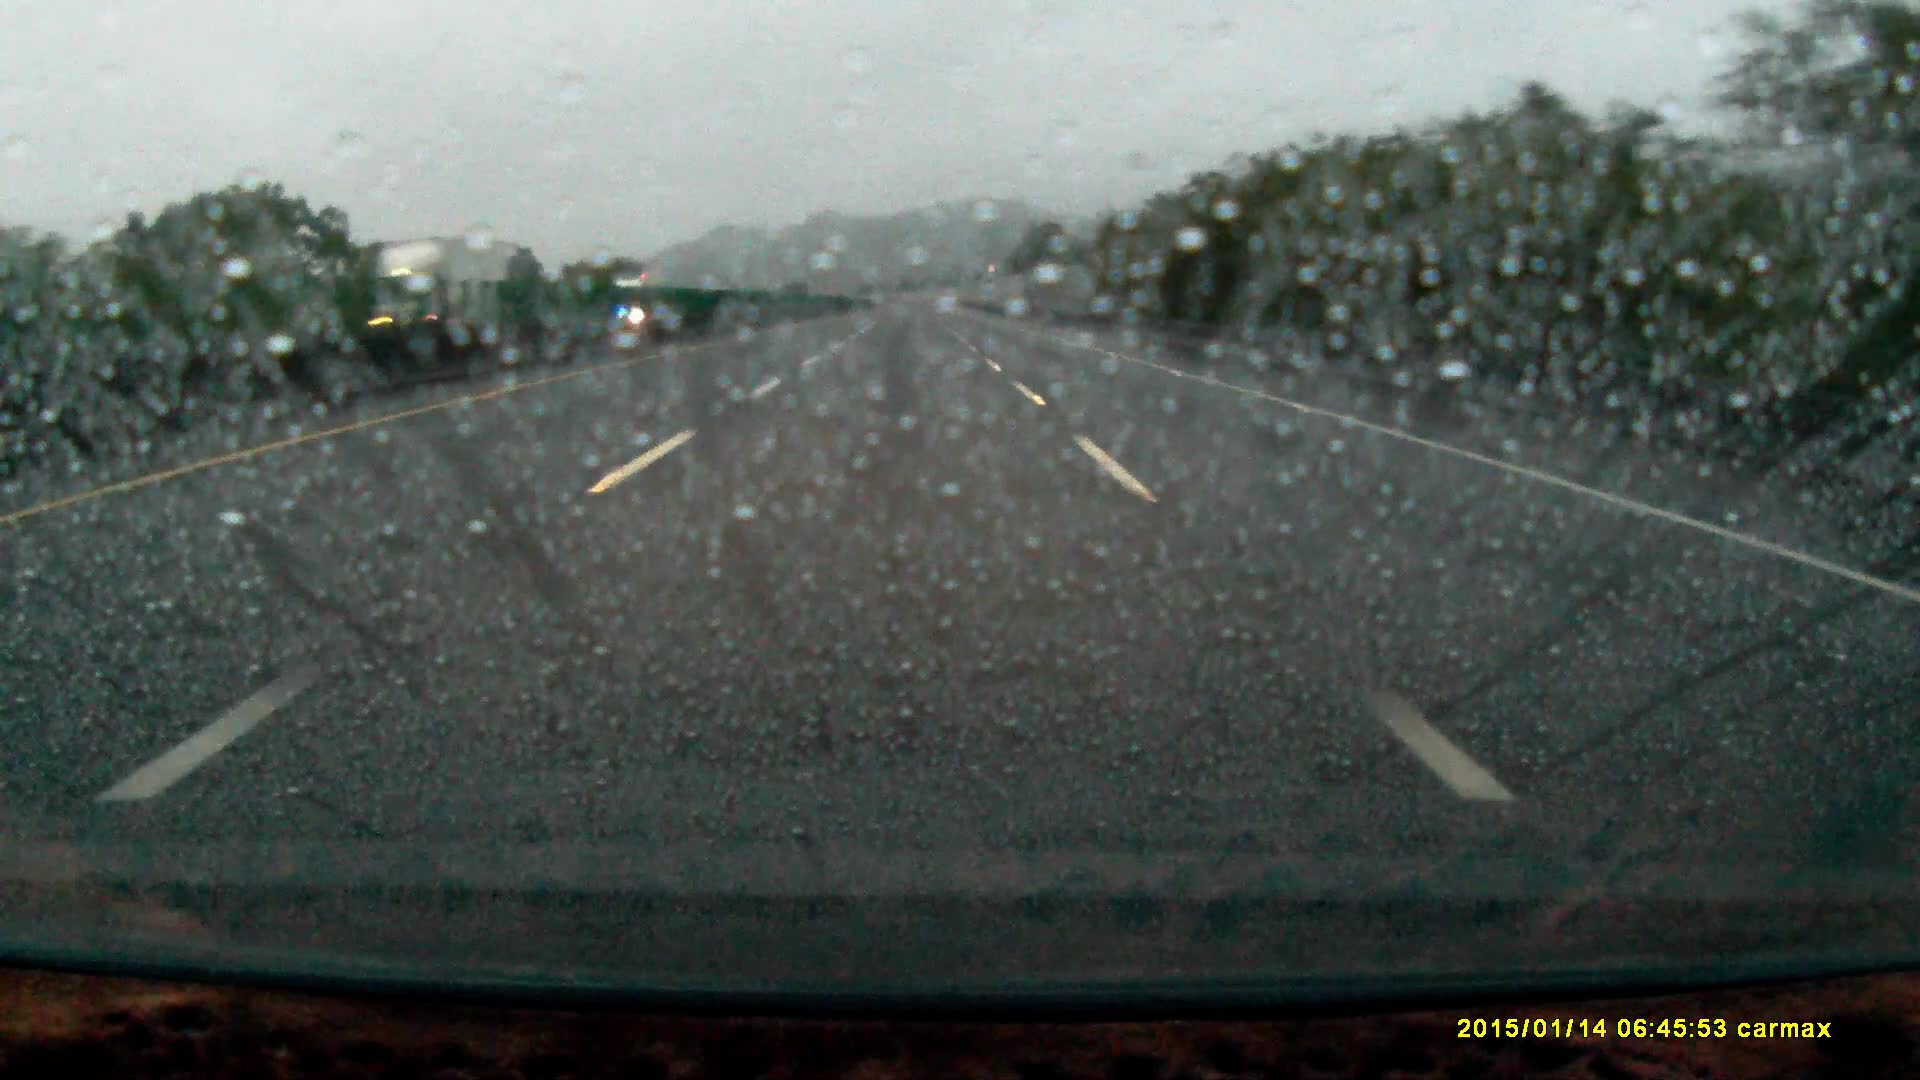vehicle: (357, 233, 526, 361), (613, 276, 669, 316)
